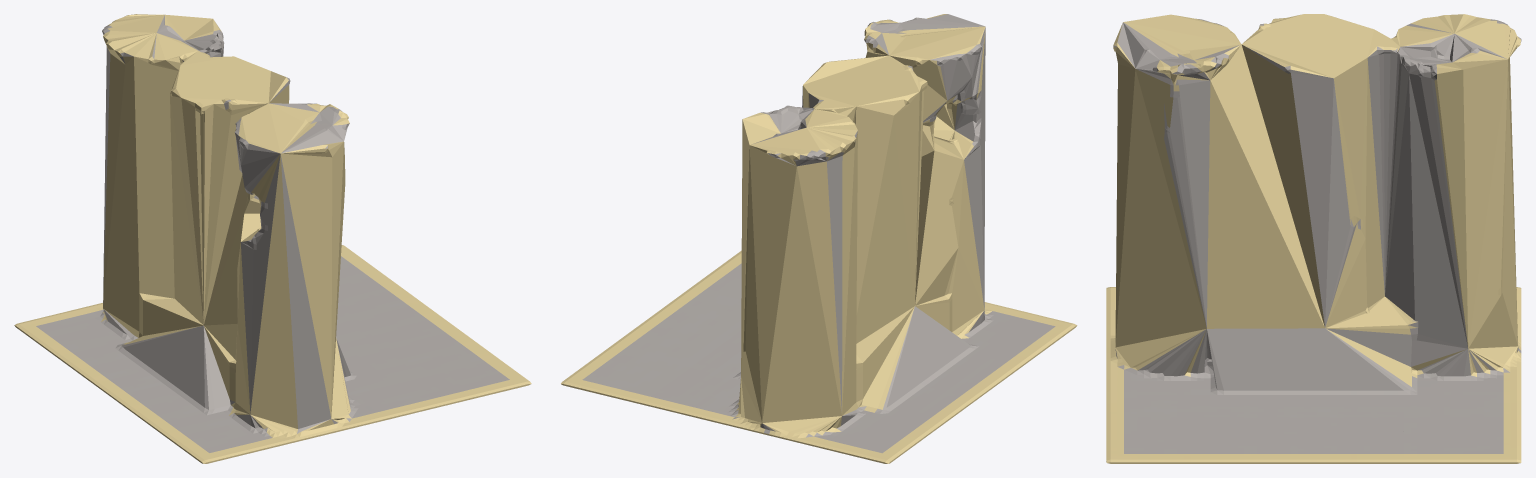
The model's file is ruin_silo.glb.
3 renders of one model, left to right at view 1: azimuth 30°, elevation 25°; view 2: azimuth 150°, elevation 25°; view 3: azimuth 270°, elevation 25°, orthographic. The views are drawn at different scales.
Parts seen in each view (by area): view 1: Mesh_0.019; view 2: Mesh_0.019; view 3: Mesh_0.019.
Boxes of the visible parts, x1=… form: Mesh_0.019: x1=14, y1=14, x2=531, y2=463; Mesh_0.019: x1=561, y1=14, x2=1077, y2=463; Mesh_0.019: x1=1106, y1=14, x2=1521, y2=463.
Bounding box in the file's own units: 1 × 0.8423 × 1.
